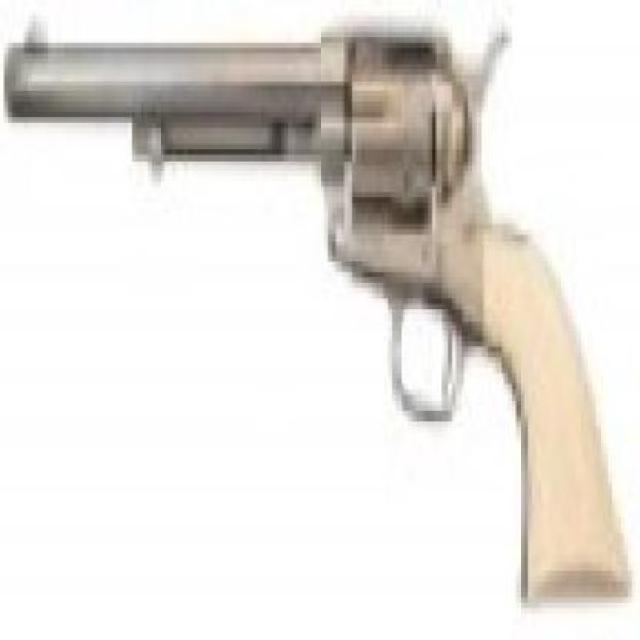gun: (8, 16, 624, 598)
